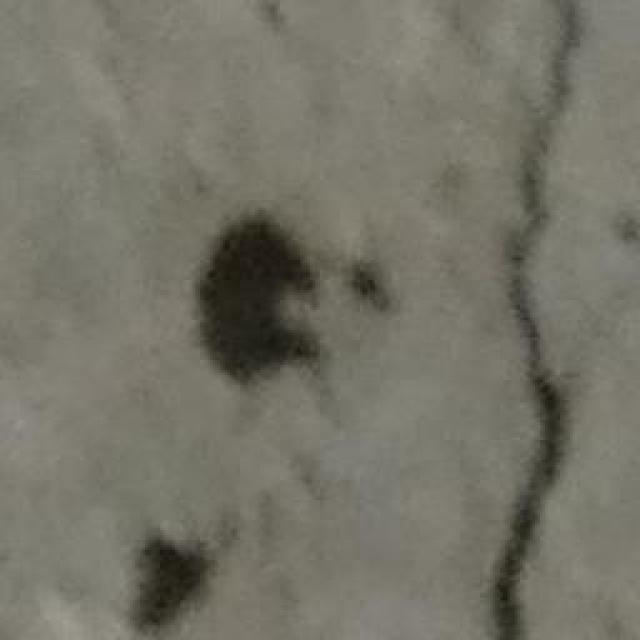Longitudinal: (492, 0, 586, 640)
